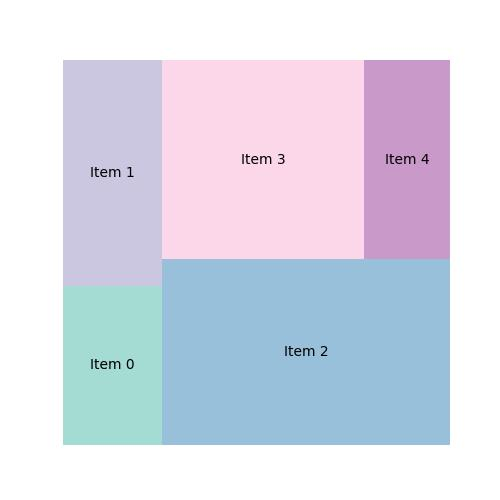rectangle: (161, 259, 450, 446), (161, 59, 364, 260), (61, 60, 162, 285), (364, 59, 451, 260), (63, 284, 164, 444)
